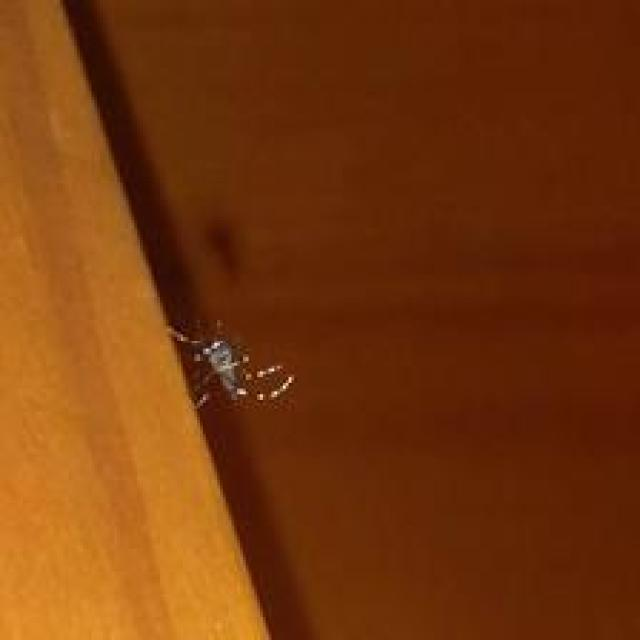Aedes albopictus: (164, 318, 296, 413)
